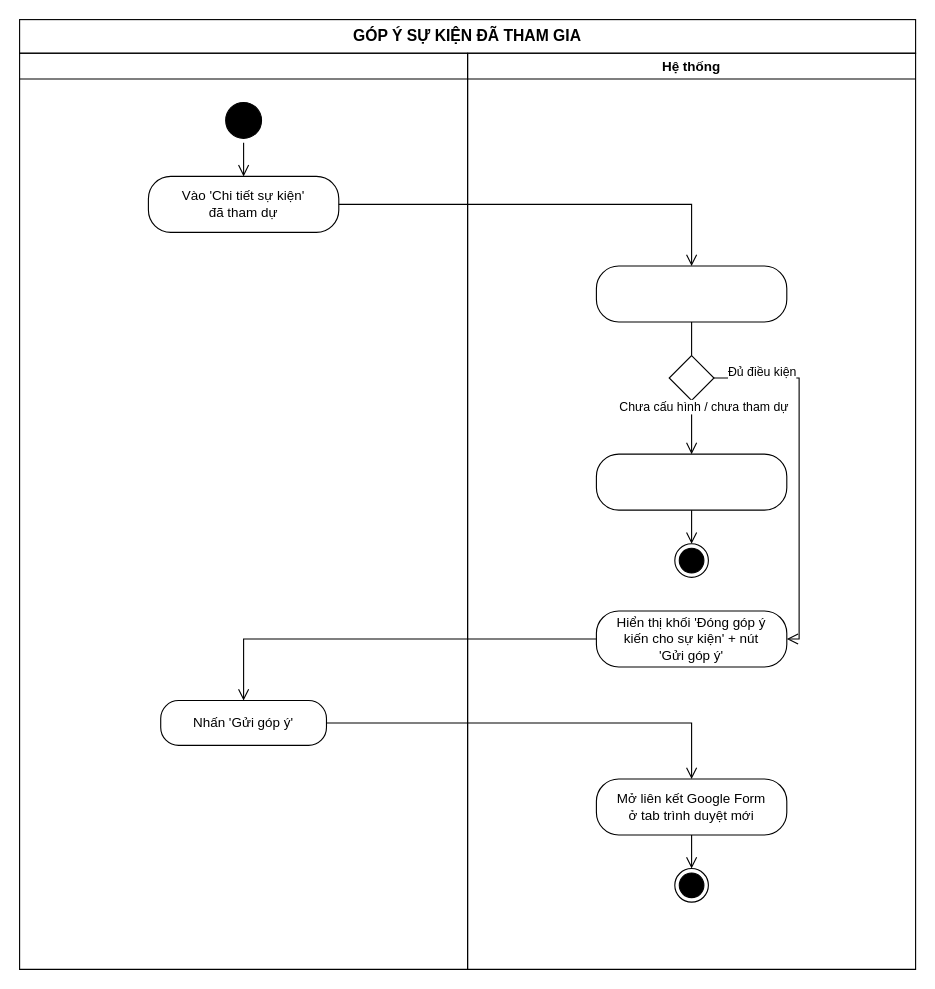
The diagram is 935 pixels wide and 989 high, and some of its shapes have lost their labels. The box of each missing label's shape, as (x1, y1, x2, y2) in pixels:
Kiểm tra đã tham dự và có liên kết góp ý: (595, 265, 787, 322)
Thành viên: (18, 52, 468, 969)
Ẩn khối 'Đóng góp ý kiến cho sự kiện': (595, 453, 787, 510)
